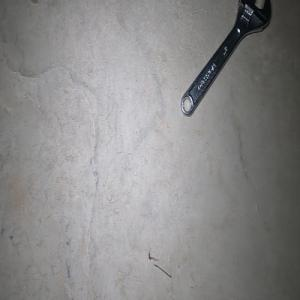Wrench: (181, 0, 271, 116)
